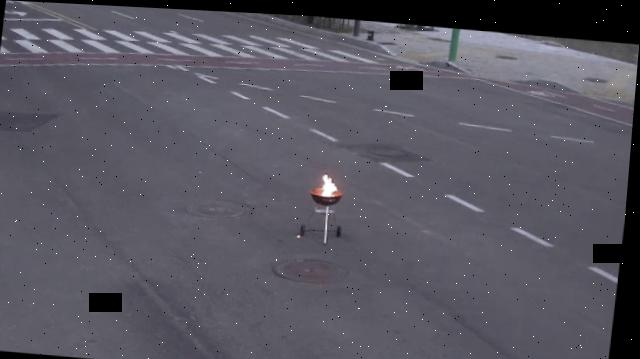fire: (323, 170, 342, 194)
